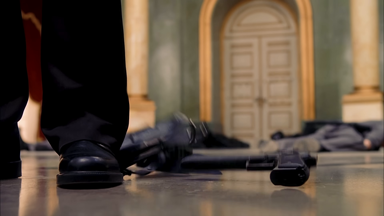firearm: (122, 109, 215, 175), (182, 150, 318, 187)
